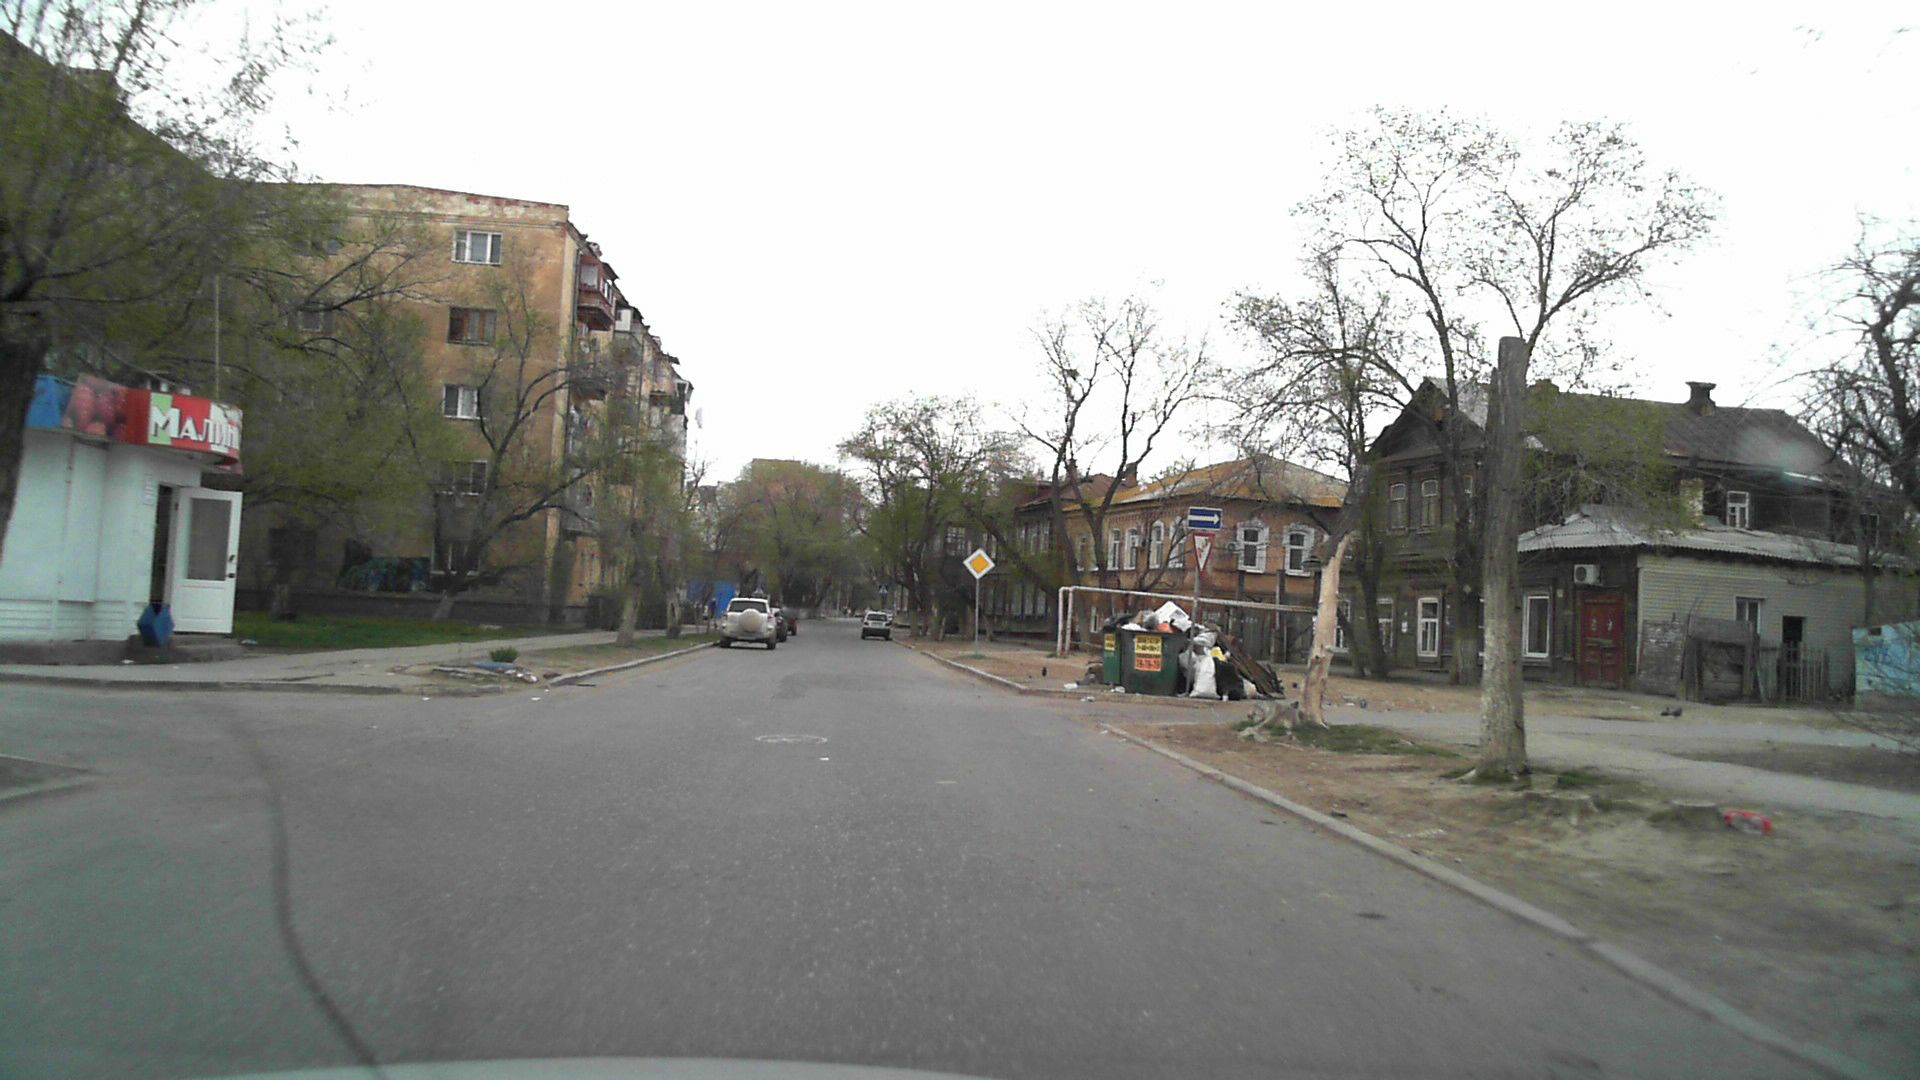One-Way Traffic: (1188, 506, 1222, 530)
